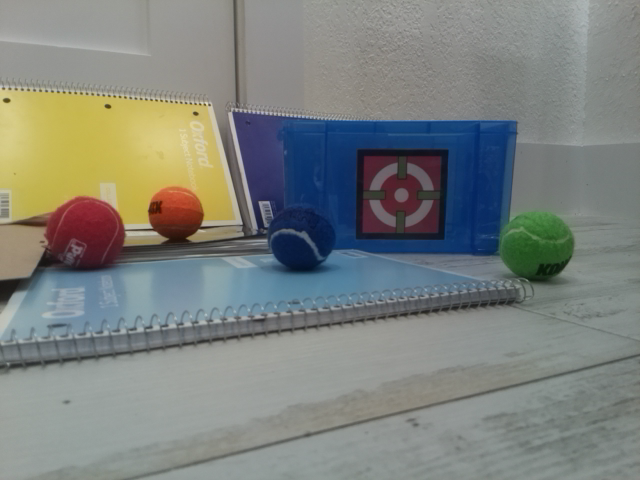blue-ball: (266, 202, 339, 272)
drop-bin: (354, 147, 448, 240)
green-ball: (497, 209, 576, 283)
orange-ball: (147, 185, 205, 240)
red-ball: (45, 195, 126, 271)
